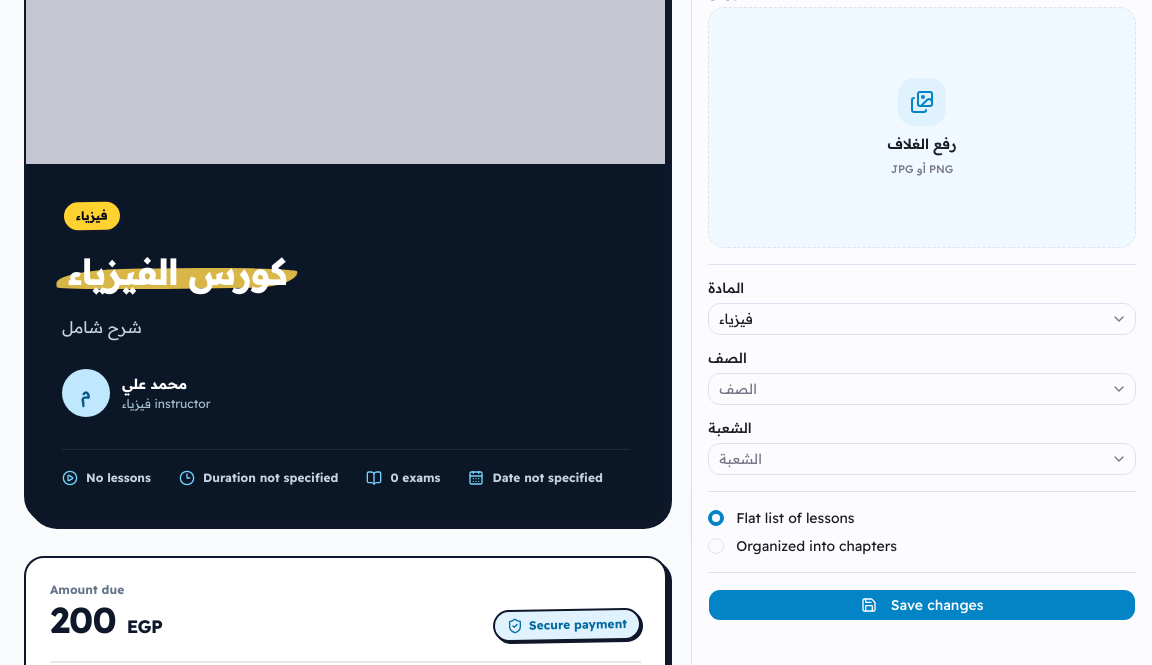
Test case: CourseWorkspace › shows backend error message when save fails with a descriptive error
(page scrolled)
Click the button "Save changes". click: (922, 605)
box: [708,589,1136,621]
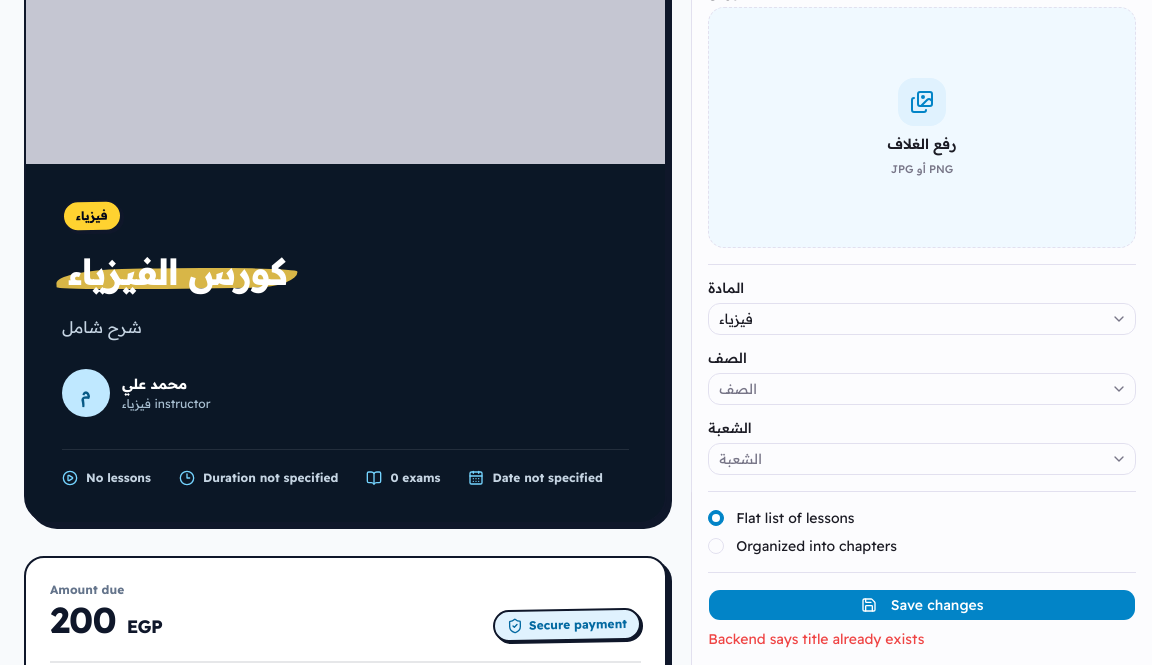
expect the message reads "Backend says title already exists": met, box [708,630,924,648]
